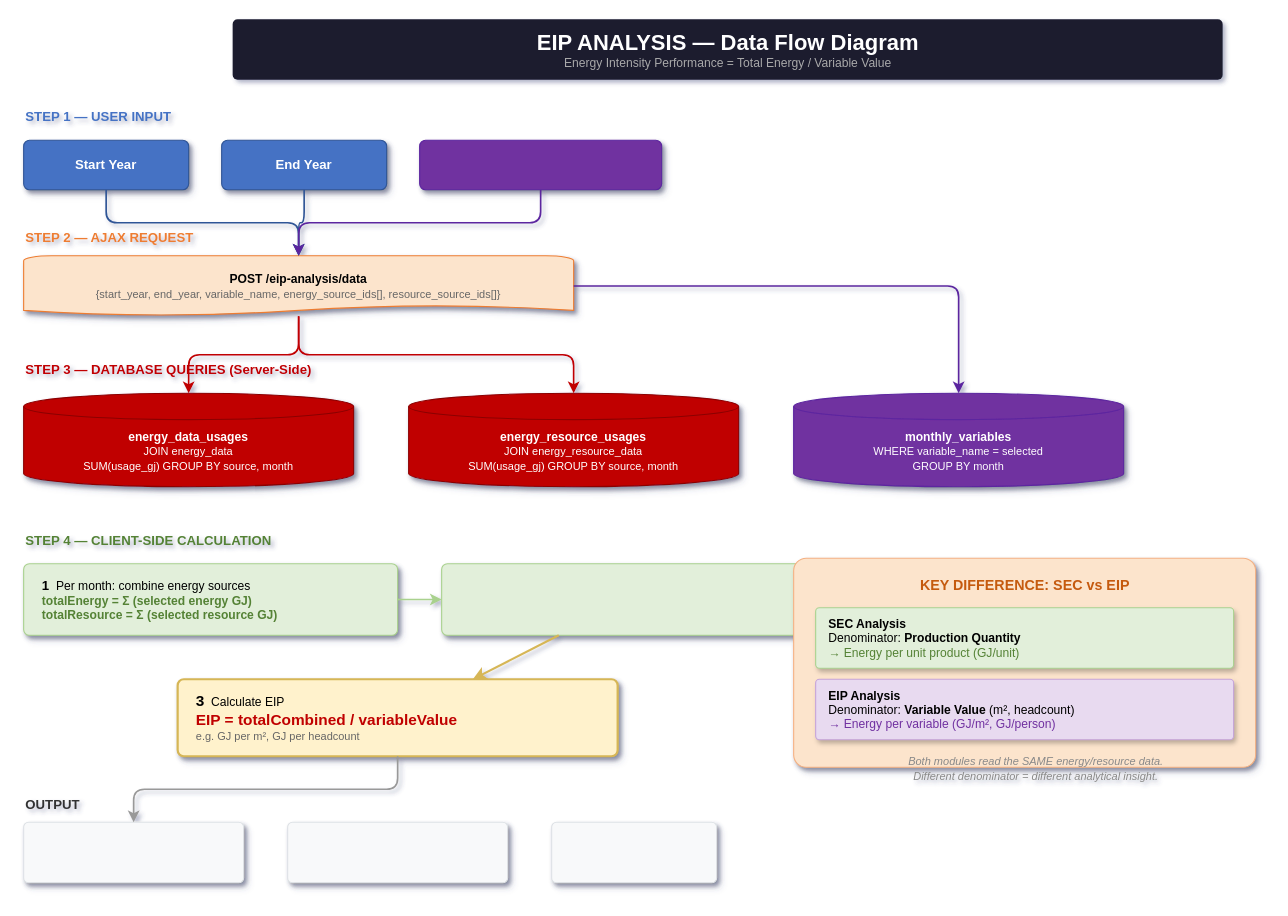
Image size: 1288x916. Some labels were removed from this diagram. The centre of each missing label's shape, as x and y in pixels:
2 Combine all energy totalCombined = totalEnergy + totalResource: point 629,600
EIP Charts Bar, Line trends: point 398,853
EIP Table Monthly energy vs variable: point 134,853
Export CSV / Excel: point 634,853
Variable Area (m²), Headcount, etc.: point 541,166
